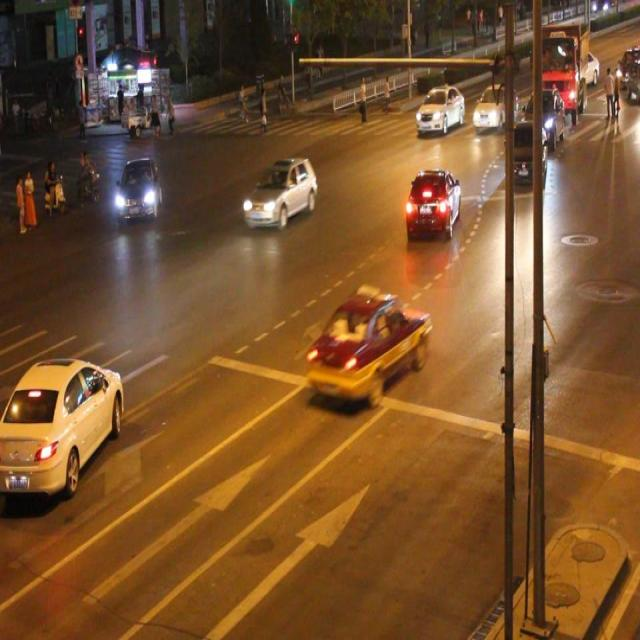car: (0, 356, 124, 494), (308, 293, 429, 405), (243, 154, 316, 230), (404, 167, 462, 240), (116, 159, 162, 220), (506, 120, 546, 188), (414, 86, 464, 133)
